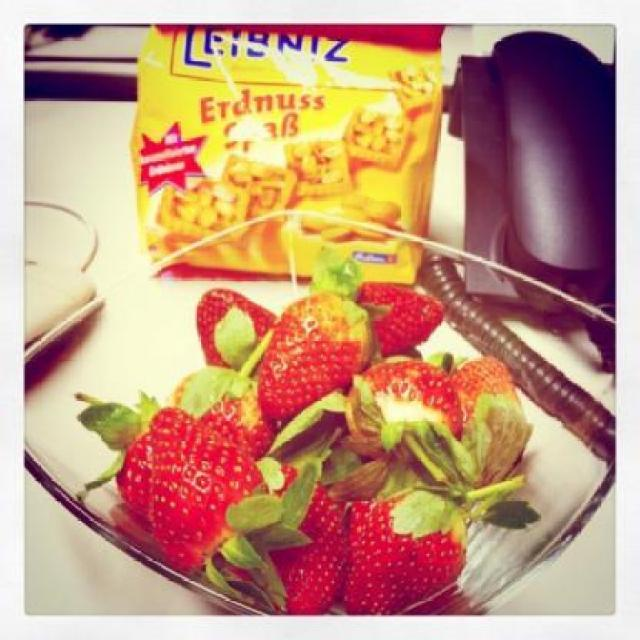Strawberry: (340, 451, 538, 620), (137, 408, 321, 586), (218, 459, 356, 623), (339, 354, 470, 496), (252, 288, 374, 434), (308, 243, 446, 354), (168, 330, 280, 462), (75, 386, 177, 514), (447, 353, 539, 493), (189, 284, 280, 376)
